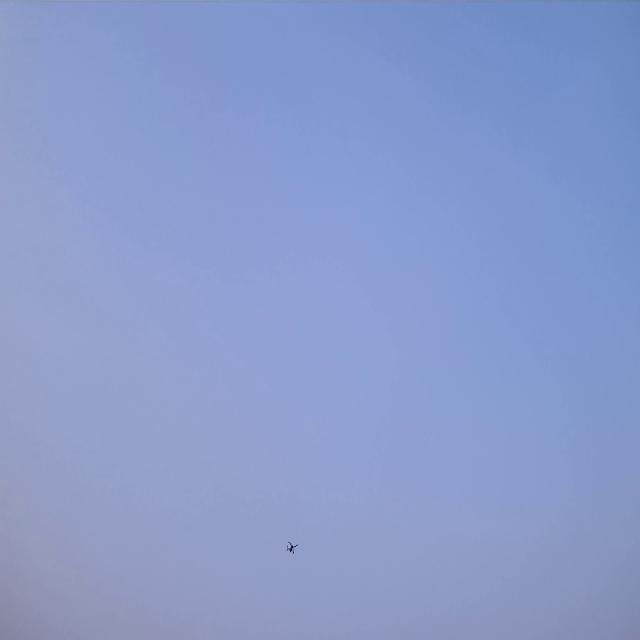UAV: (285, 540, 298, 554)
